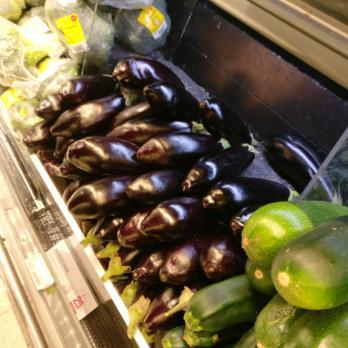Brinjal: (79, 50, 239, 274), (38, 89, 78, 175), (259, 132, 319, 179)
